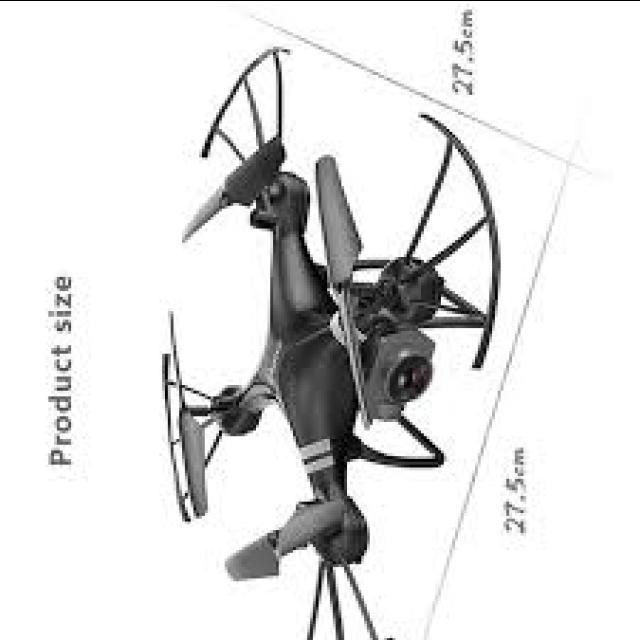drone: (146, 32, 512, 640)
